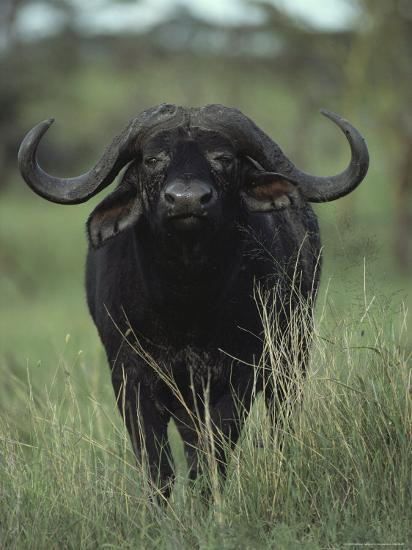Buffalo: (0, 59, 402, 547)
